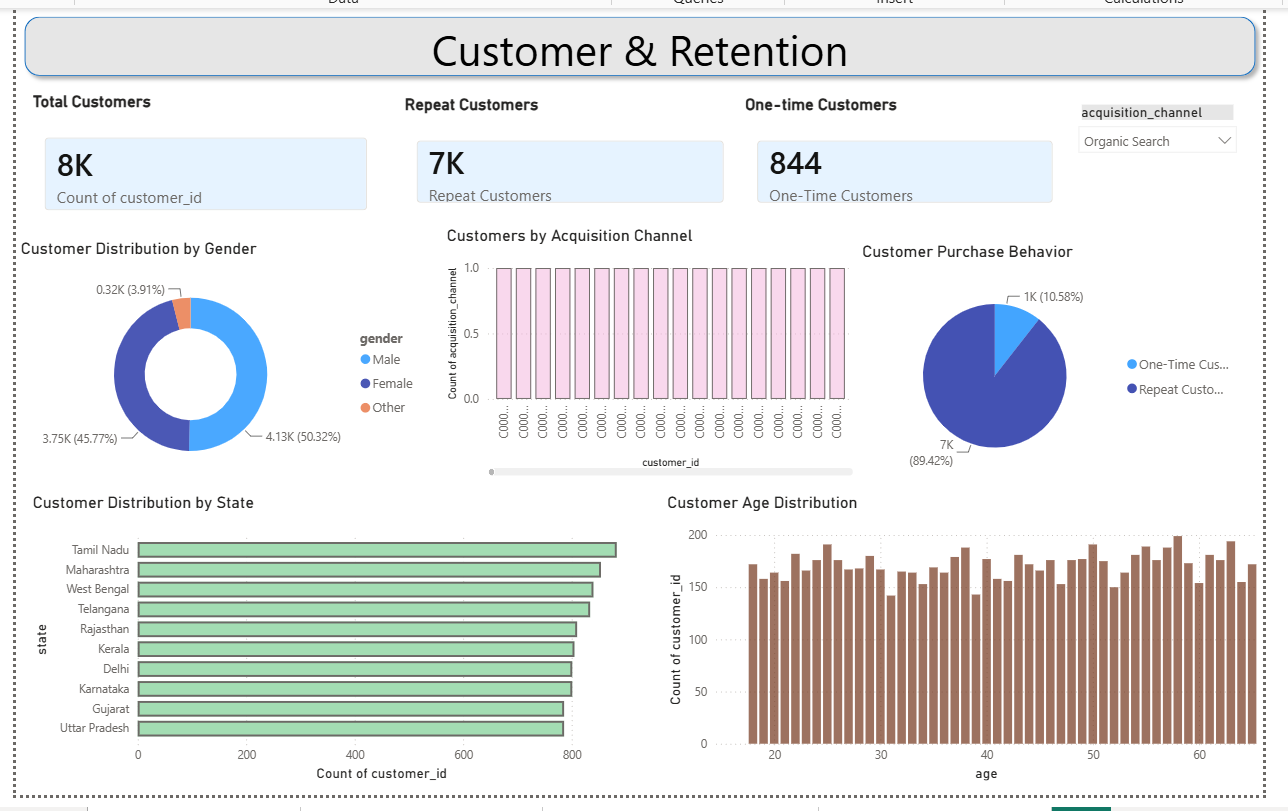

The dashboard page shown, as its layout file describes it:
{"tool":"powerbi","page":{"name":"Customer & Retention","canvas":[1300,820],"ordinal":1},"visuals":[{"type":"cardVisual","title":"Total Customers","fields":{"Data":["Count(customers.customer_id)"]},"box":[12.5,87.5,370.4,140.7],"z":0},{"type":"cardVisual","title":"Repeat Customers","fields":{"Data":["DateTable.Repeat Customers"]},"box":[400.1,90.6,354.8,129.7],"z":1000},{"type":"cardVisual","title":"One-time Customers","fields":{"Data":["DateTable.One-Time Customers"]},"box":[754.9,90.6,342.3,129.7],"z":2000},{"type":"clusteredBarChart","title":"Customer Distribution by State","fields":{"Y":["Count(customers.customer_id)"],"Category":["customers.state"]},"box":[12.5,504.8,637.7,304.8],"z":3000},{"type":"columnChart","title":"Customers by Acquisition Channel","fields":{"Category":["customers.customer_id"],"Y":["Count(customers.acquisition_channel)"]},"box":[443.9,226.6,432.9,265.7],"z":4000},{"type":"pieChart","title":"Customer Purchase Behavior","fields":{"Y":["DateTable.One-Time Customers","DateTable.Repeat Customers"]},"box":[876.8,243.8,403.2,248.5],"z":5000},{"type":"donutChart","title":"Customer Distribution by Gender","fields":{"Y":["CountNonNull(customers.customer_id)"],"Category":["customers.gender"]},"box":[0,240.7,428.2,251.6],"z":6000},{"type":"clusteredColumnChart","title":"Customer Age Distribution","fields":{"Y":["Count(customers.customer_id)"],"Category":["customers.age"]},"box":[673.6,504.8,626.7,304.8],"z":7000},{"type":"slicer","fields":{"Values":["customers.acquisition_channel"]},"box":[1097.2,95.3,184.4,125],"z":8000},{"type":"shape","box":[0,0,1300.4,79.7],"z":9000}]}

Visuals, with their boxes on the page's 1300x820 design canvas (x1, y1, x2, y2). These are canvas units, not pixel positions in the 1288x811 screenshot, which may show the page scaled, cropped or inside an application window:
"Total Customers" cardVisual: x1=12, y1=88, x2=383, y2=228
"Repeat Customers" cardVisual: x1=400, y1=91, x2=755, y2=220
"One-time Customers" cardVisual: x1=755, y1=91, x2=1097, y2=220
"Customer Distribution by State" clusteredBarChart: x1=12, y1=505, x2=650, y2=810
"Customers by Acquisition Channel" columnChart: x1=444, y1=227, x2=877, y2=492
"Customer Purchase Behavior" pieChart: x1=877, y1=244, x2=1280, y2=492
"Customer Distribution by Gender" donutChart: x1=0, y1=241, x2=428, y2=492
"Customer Age Distribution" clusteredColumnChart: x1=674, y1=505, x2=1300, y2=810
slicer - customers.acquisition_channel: x1=1097, y1=95, x2=1282, y2=220
shape: x1=0, y1=0, x2=1300, y2=80
